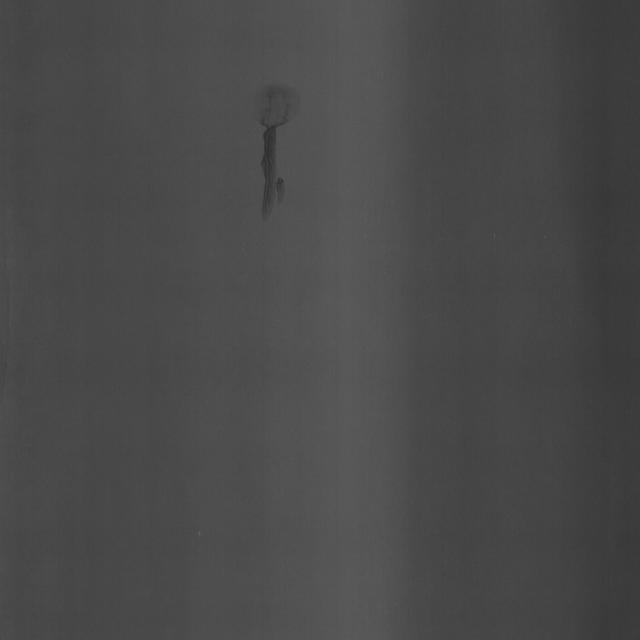water_spot: (249, 67, 312, 225)
